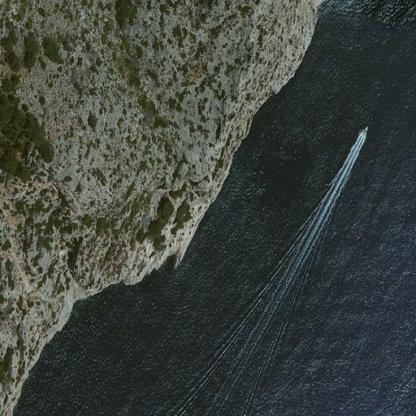ship: (357, 120, 373, 139)
